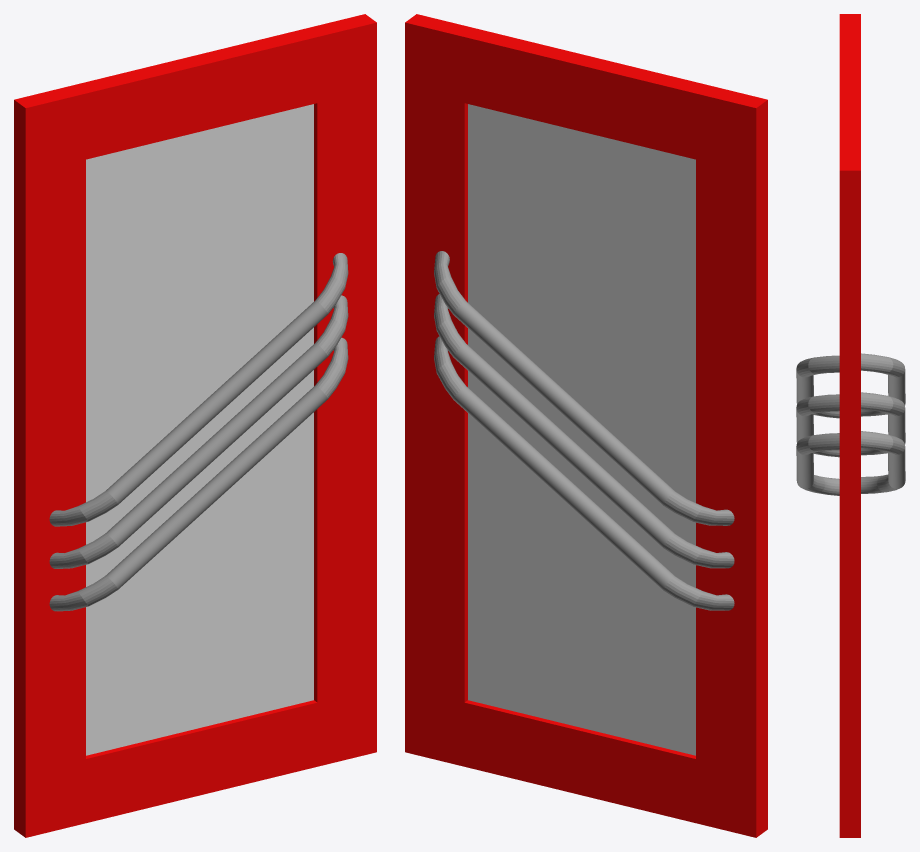
File: DoorDiner.fbx
The picture shows the model from 3 angles, left to right: view 1: azimuth 30°, elevation 25°; view 2: azimuth 150°, elevation 25°; view 3: azimuth 270°, elevation 25°; orthographic projection. The views are drawn at different scales.
Parts seen in each view (by area): view 1: pCube1, pCube2, pCylinder1, pCylinder2, pCylinder3; view 2: pCube1, pCube2, pCylinder6, pCylinder4, pCylinder5; view 3: pCube1, pCylinder5, pCylinder3, pCylinder4, pCylinder6, pCylinder1, pCylinder2.
Part boxes in pixels (left/top/right/bottom): pCube1: left=14, top=14, right=376, bottom=837; pCube2: left=86, top=104, right=313, bottom=755; pCylinder1: left=49, top=253, right=348, bottom=526; pCylinder2: left=49, top=295, right=348, bottom=568; pCylinder3: left=49, top=337, right=348, bottom=611; pCube1: left=405, top=14, right=767, bottom=837; pCube2: left=468, top=104, right=695, bottom=755; pCylinder6: left=434, top=251, right=734, bottom=525; pCylinder4: left=434, top=294, right=734, bottom=568; pCylinder5: left=434, top=336, right=734, bottom=610; pCube1: left=839, top=14, right=860, bottom=837; pCylinder5: left=861, top=431, right=905, bottom=493; pCylinder3: left=796, top=433, right=839, bottom=495; pCylinder4: left=861, top=392, right=905, bottom=455; pCylinder6: left=861, top=353, right=905, bottom=416; pCylinder1: left=796, top=355, right=839, bottom=418; pCylinder2: left=796, top=394, right=839, bottom=457.
Bounding box in the file's own units: 5.52 × 10.95 × 1.62.
